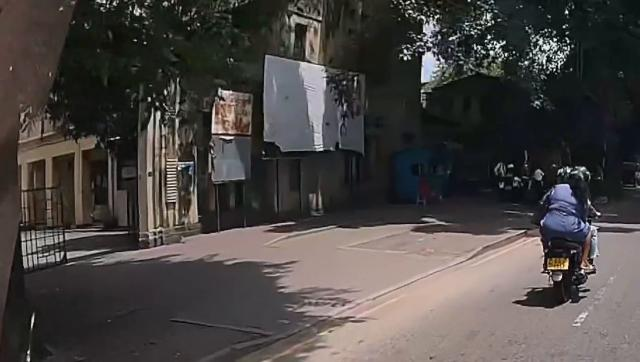number plate: (547, 255, 575, 272)
